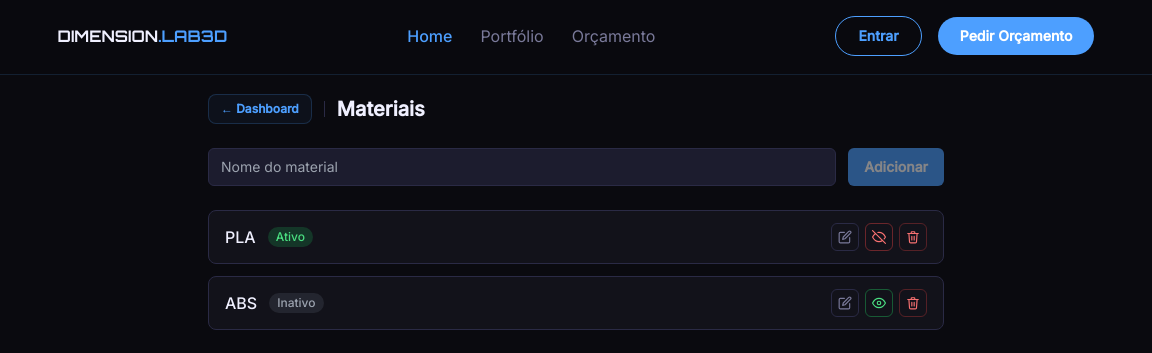
MaterialsAdmin › saves edited material name
The width and height of the screenshot is (1152, 353).
expect the text "PLA" is shown: met, box [225,225,256,249]
Click the 1st button named "editar": (845, 237) [831,223,859,251]
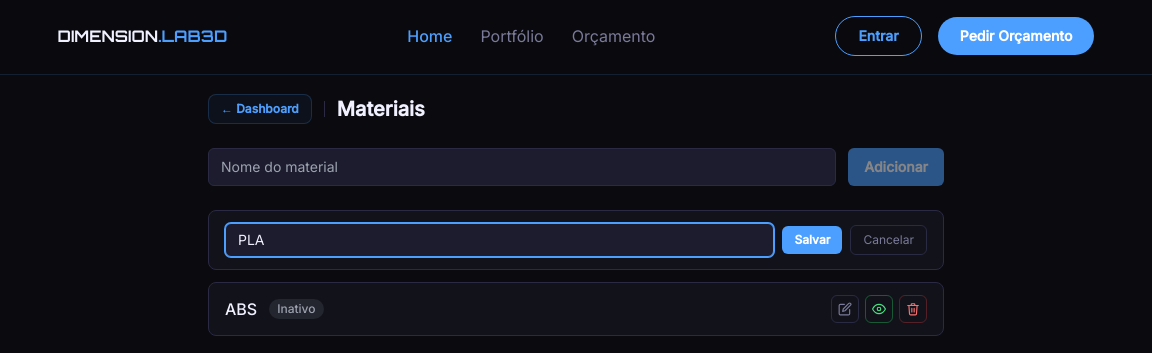
Replace the text in the field showing "PLA" with "PLA+": (500, 240) [225,223,774,257]
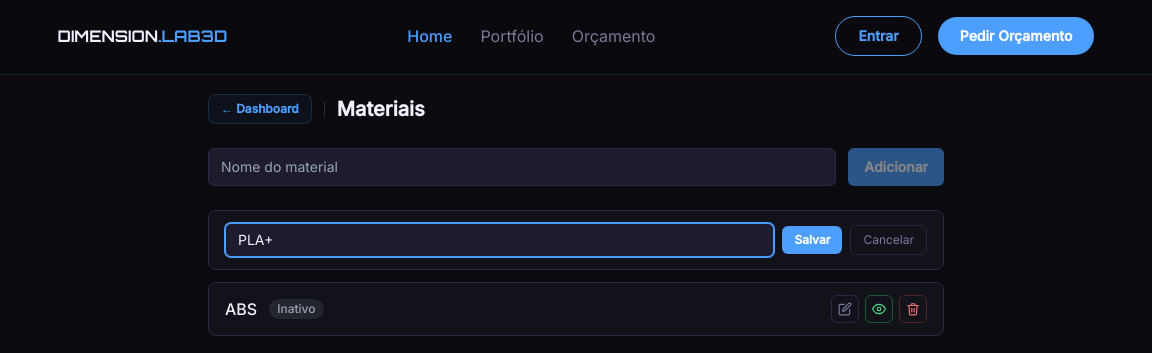
Click the button "Salvar": (812, 240) [782,226,842,254]
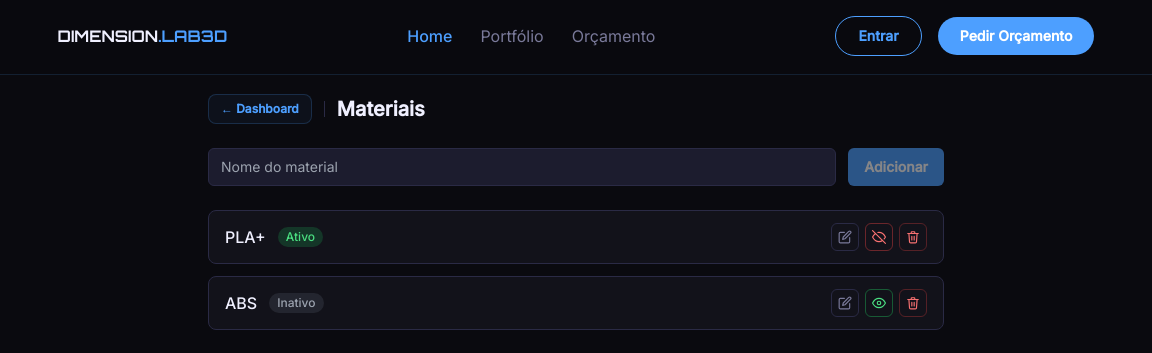
expect the text "PLA+" is shown: met, box [225,225,266,249]
